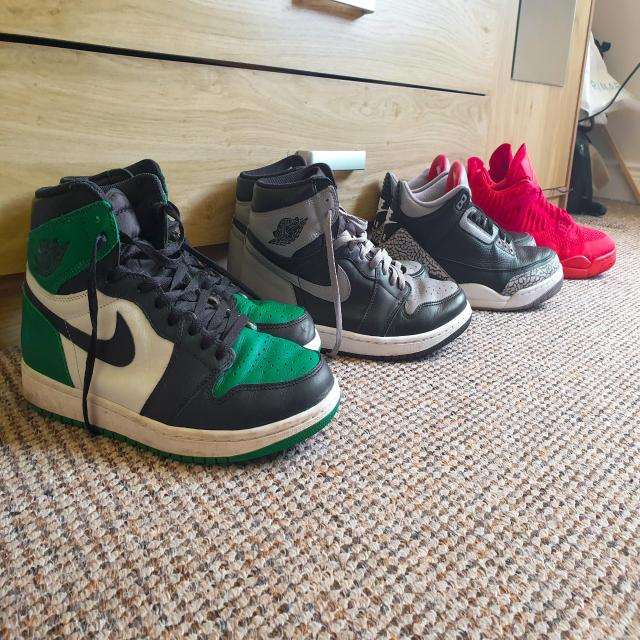shoe: (15, 145, 346, 476), (219, 146, 478, 366), (368, 148, 570, 318), (465, 138, 624, 288)
